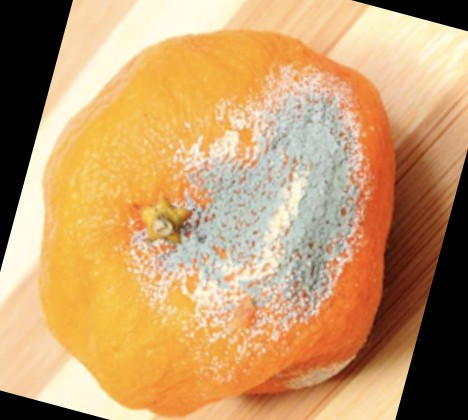rotten_orange: (41, 30, 395, 418)
